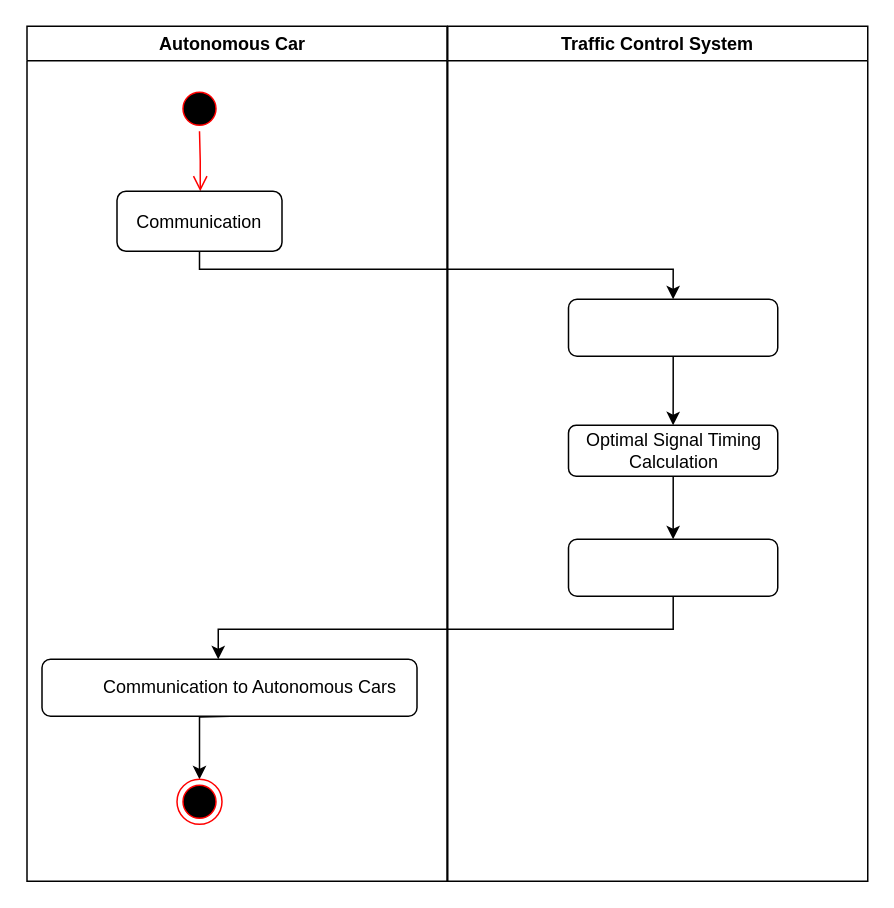
The diagram is 894 pixels wide and 908 high, and some of its shapes have lost their labels. The shapes that lost their labels are listed below. From the top down, each one's box as (x1, y1, x2, y2) in pixels, then its label:
(567, 298, 778, 356): Data Processing
(567, 538, 778, 596): Signal Adjustment
